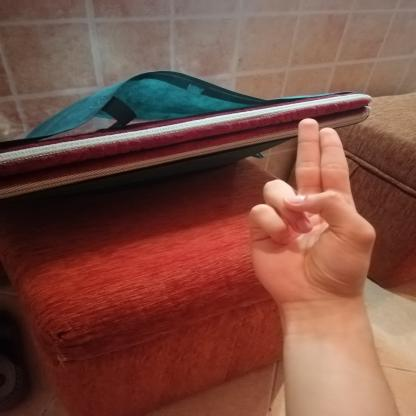TA: (227, 106, 391, 317)
